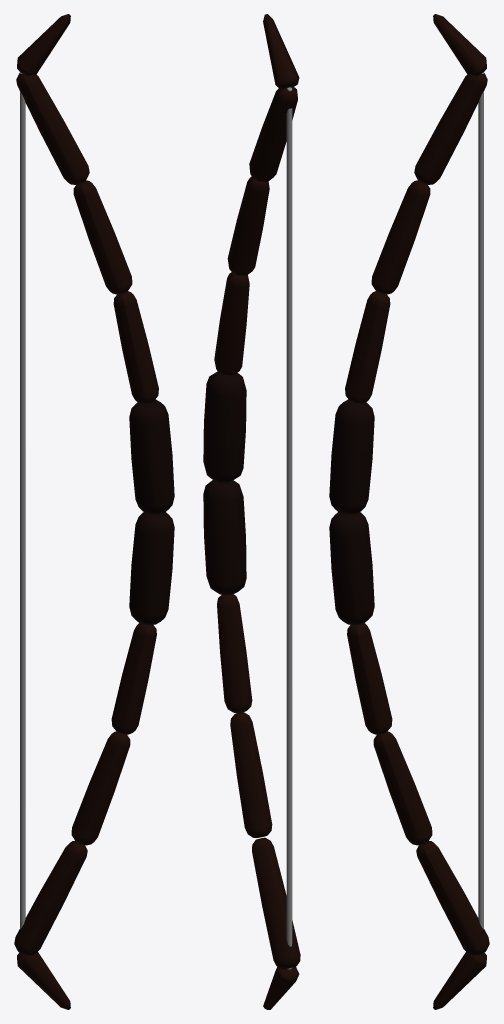
File: Arma_ArcoCaca.fbx
3 views of the same model, side by side, from view 1: azimuth 90°, elevation 25°; view 2: azimuth 210°, elevation 25°; view 3: azimuth 270°, elevation 25° (orthographic).
Visible parts, largest first — view 1: Piece; view 2: Piece; view 3: Piece.
Boxes of the visible parts, <box> form: Piece: <box>14,14,174,1009</box>; Piece: <box>203,14,300,1009</box>; Piece: <box>329,14,489,1009</box>.
Size of the model in its own units: 0.0525 by 1.4 by 0.2042.
